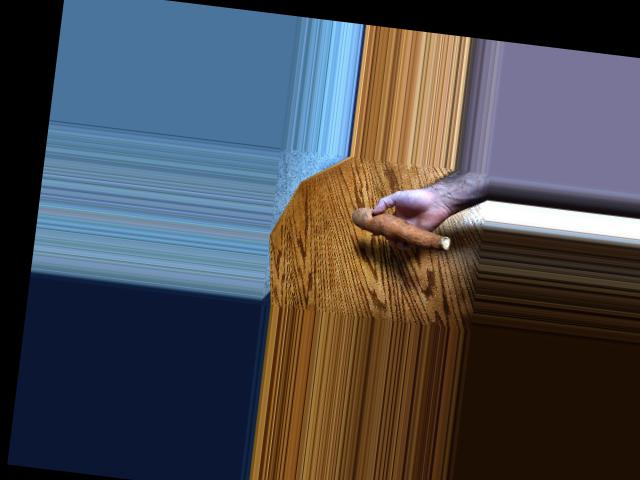sweet_potato: (343, 209, 449, 251)
